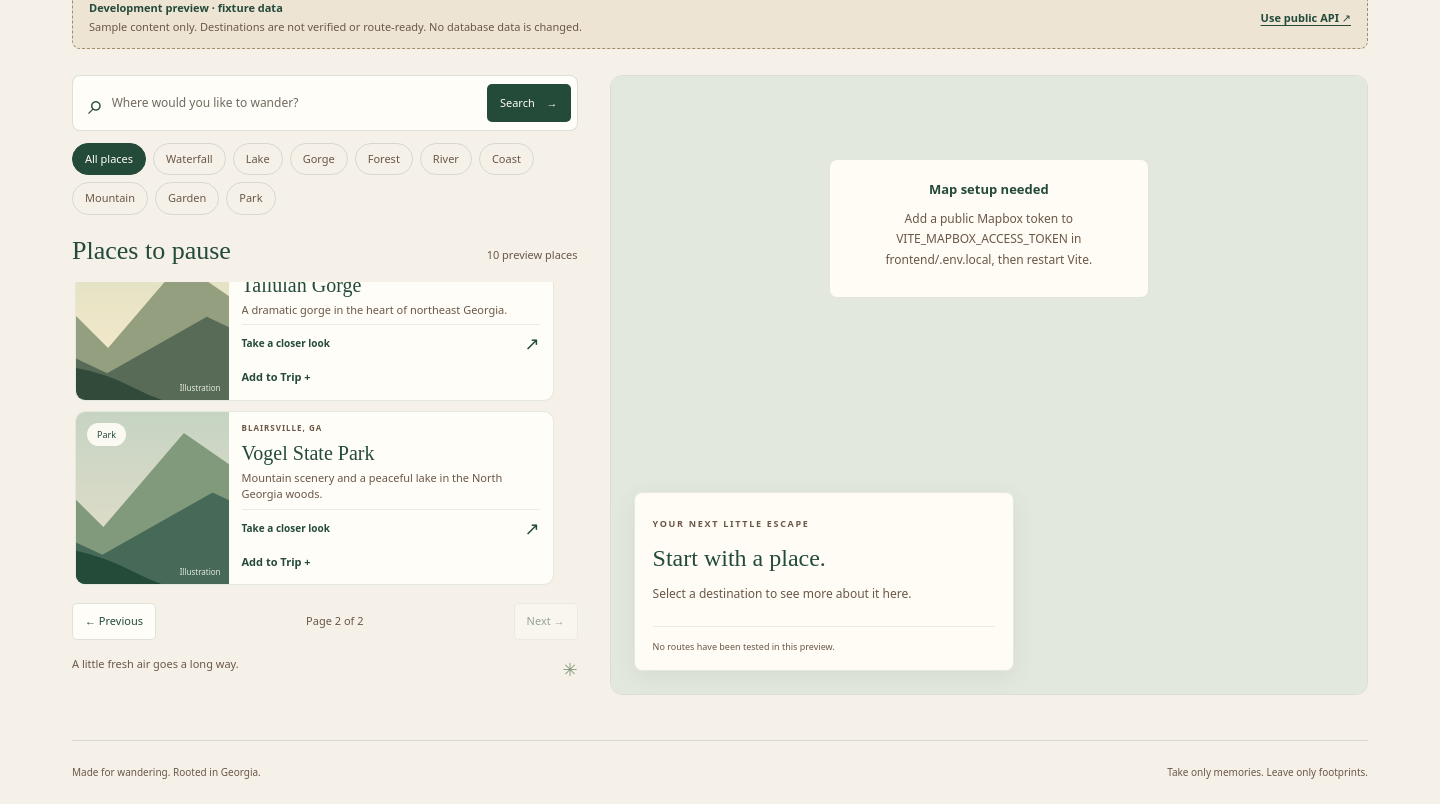
navigates from a card and restores the previous Explore page
(page scrolled)
Click the link "Vogel State Park" at (308, 453), box x1=242 y1=442 x2=374 y2=464
(page scrolled)
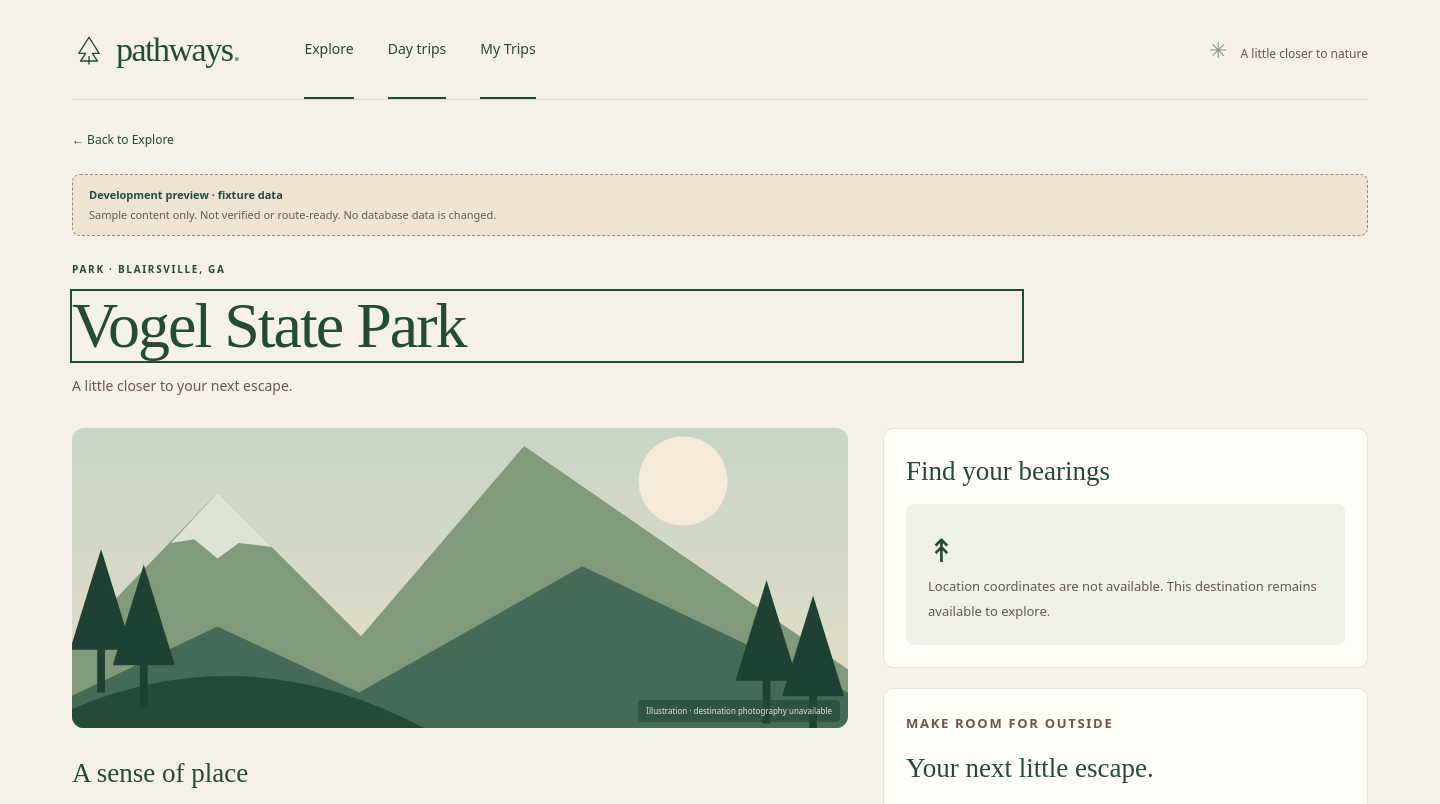
Check: the heading "Vogel State Park" is shown, box x1=72 y1=290 x2=465 y2=361
Click the link "← Back to Explore" at (123, 140), box x1=72 y1=131 x2=174 y2=149
(page scrolled)
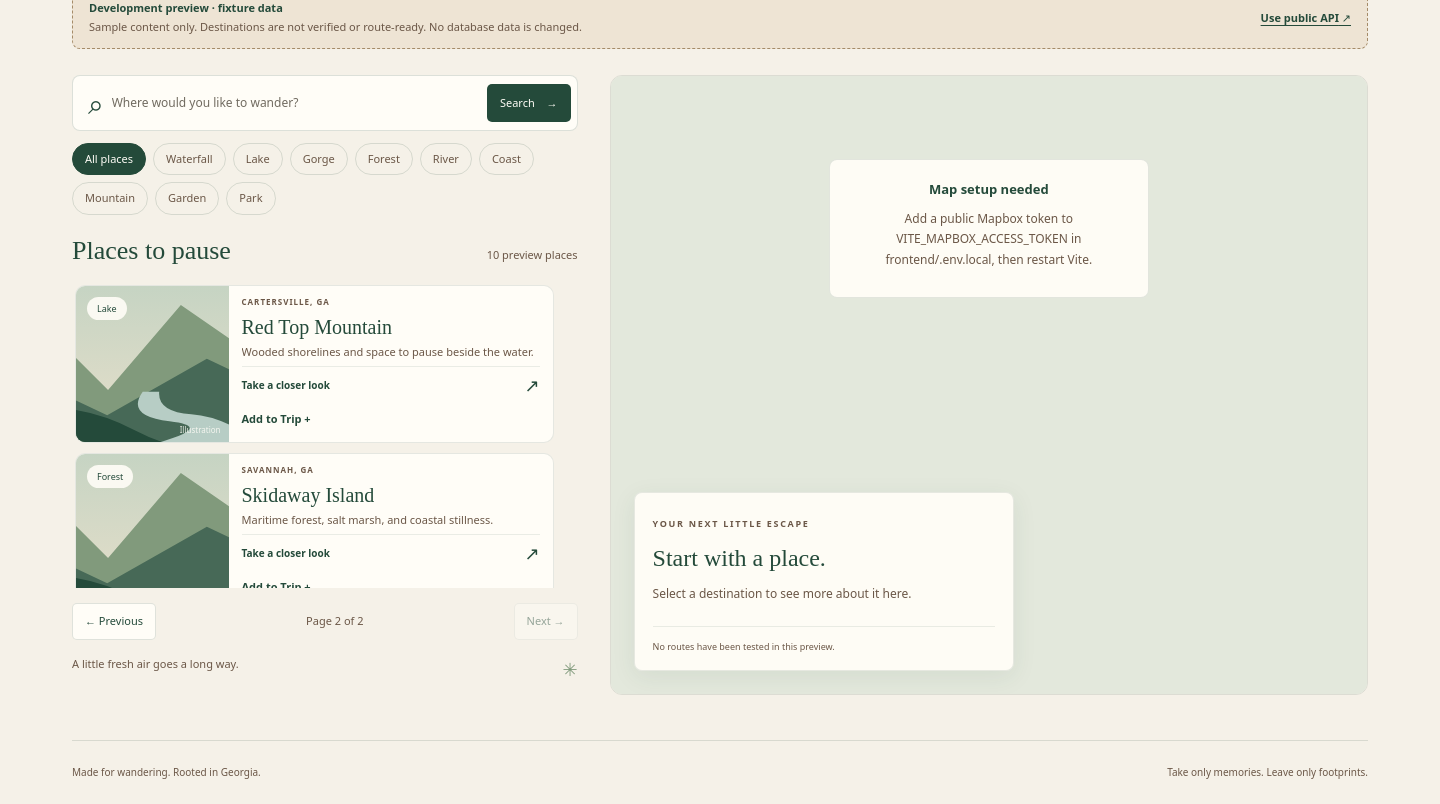
Check: the text "Page 2 of 2" is shown, box x1=306 y1=613 x2=364 y2=630
